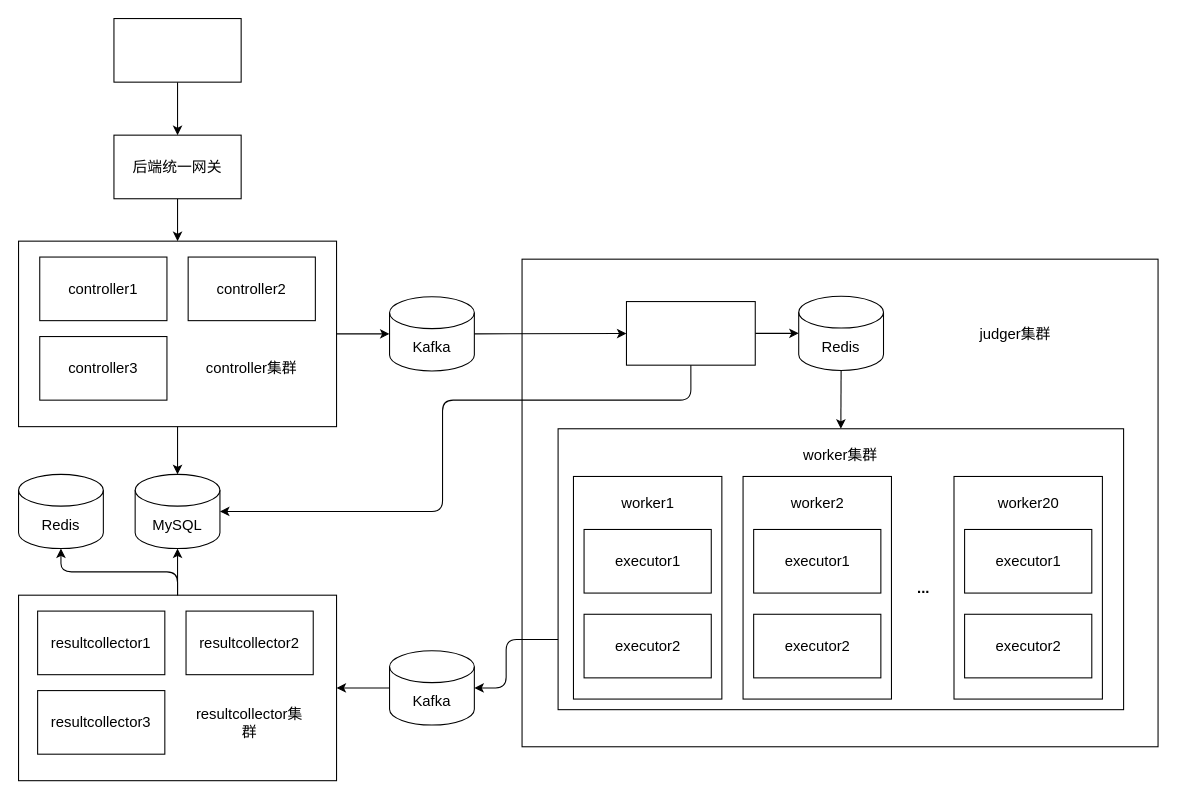
Image size: 1177x799. Some labels were removed from this diagram. Here are the shapes that lost their labels. From the top down, the centre of each, then its label:
At pixel 177 49: "前端网络请求".
At pixel 690 333: "master".
